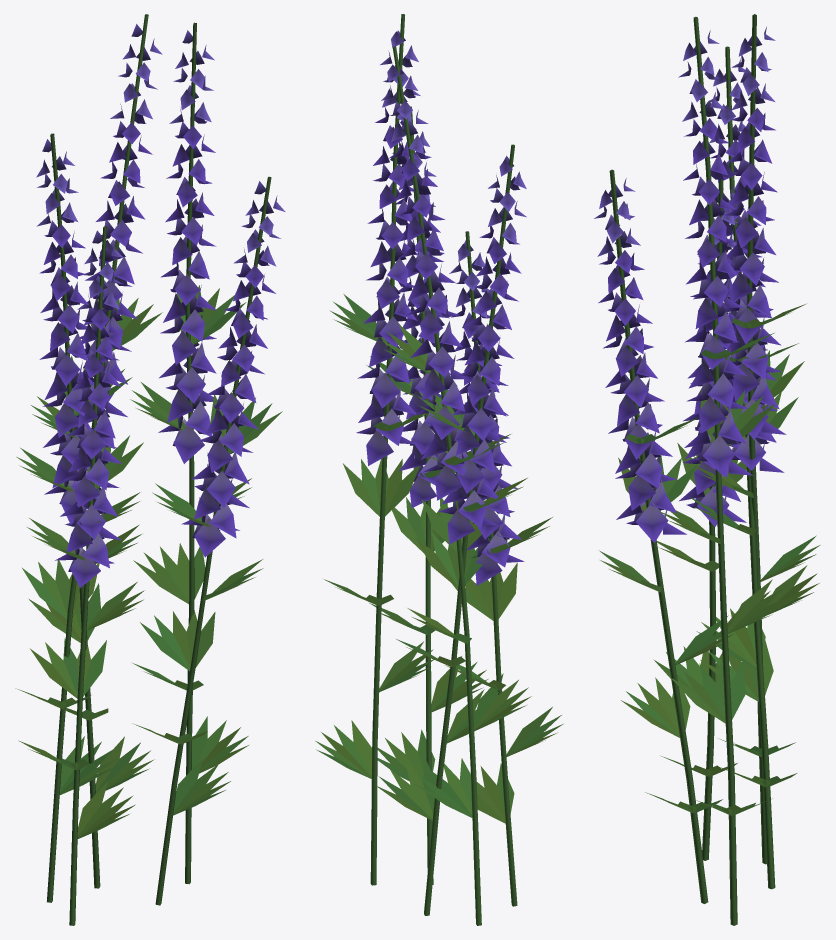
The model's file is flower-lupine-b.lod0.glb.
3 renders of one model, left to right at view 1: azimuth 30°, elevation 25°; view 2: azimuth 150°, elevation 25°; view 3: azimuth 270°, elevation 25°, orthographic. The views are drawn at different scales.
Parts seen in each view (by area): view 1: flower-lupine-b.lod0; view 2: flower-lupine-b.lod0; view 3: flower-lupine-b.lod0.
Boxes of the visible parts, x1,y1,x2,y2 form: flower-lupine-b.lod0: (15, 14, 285, 925); flower-lupine-b.lod0: (315, 14, 563, 925); flower-lupine-b.lod0: (594, 14, 820, 925).
Size of the model in its own units: 0.2134 by 0.7797 by 0.1788.
